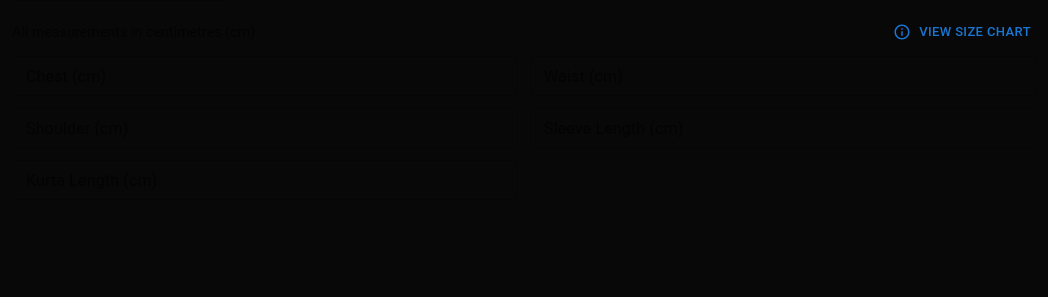
MeasurementForm size chart › shows the men's chart for men's garments (kurta counts as mens)
Click the button "View Size Chart" at [963, 32], box top-left (890, 17), bottom-right (1036, 48)
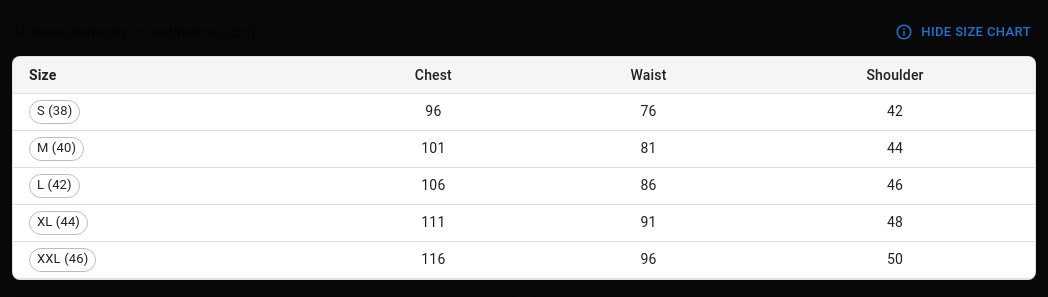
Result: the column heading "Chest" is shown at top-left (325, 56), bottom-right (542, 93)
